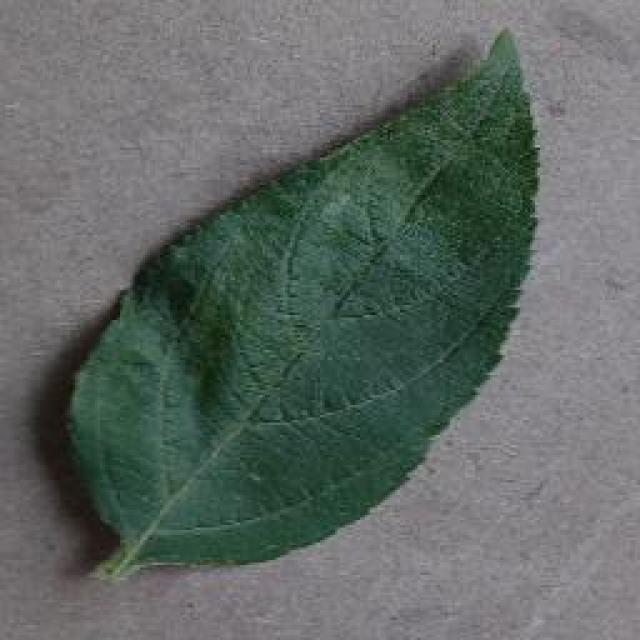apple healthy: (60, 22, 542, 580)
